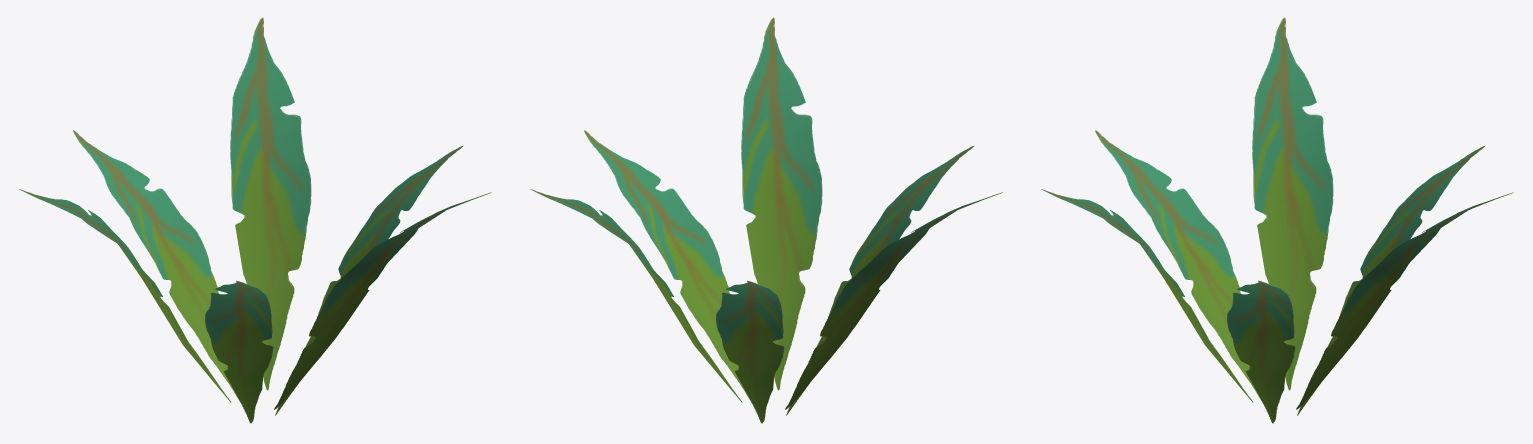
The model's file is MS_Plant4.fbx.
The picture shows the model from 3 angles, left to right: view 1: azimuth 30°, elevation 25°; view 2: azimuth 150°, elevation 25°; view 3: azimuth 270°, elevation 25°; orthographic projection.
Visible parts, largest first — view 1: Plant4; view 2: Plant4; view 3: Plant4.
Part boxes in pixels (left/top/right/bottom): Plant4: left=19, top=17, right=491, bottom=423; Plant4: left=530, top=17, right=1002, bottom=423; Plant4: left=1041, top=17, right=1513, bottom=423.
Bounding box in the file's own units: 31.63 × 20.08 × 29.87.
